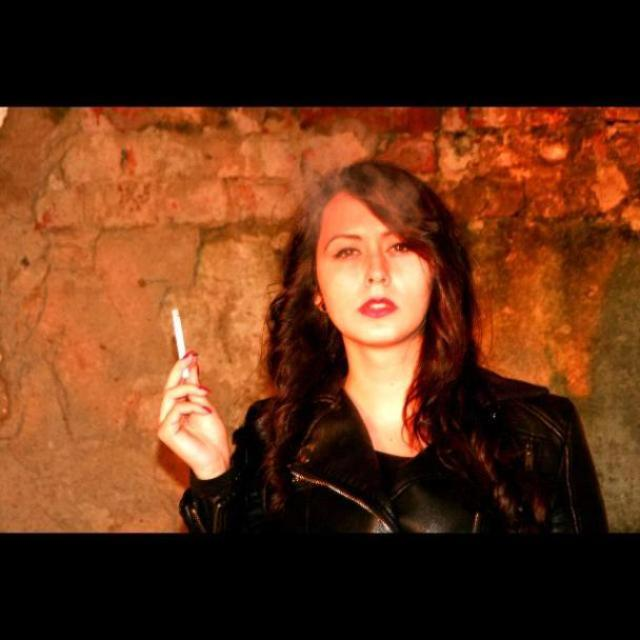rokok: (167, 302, 196, 384)
